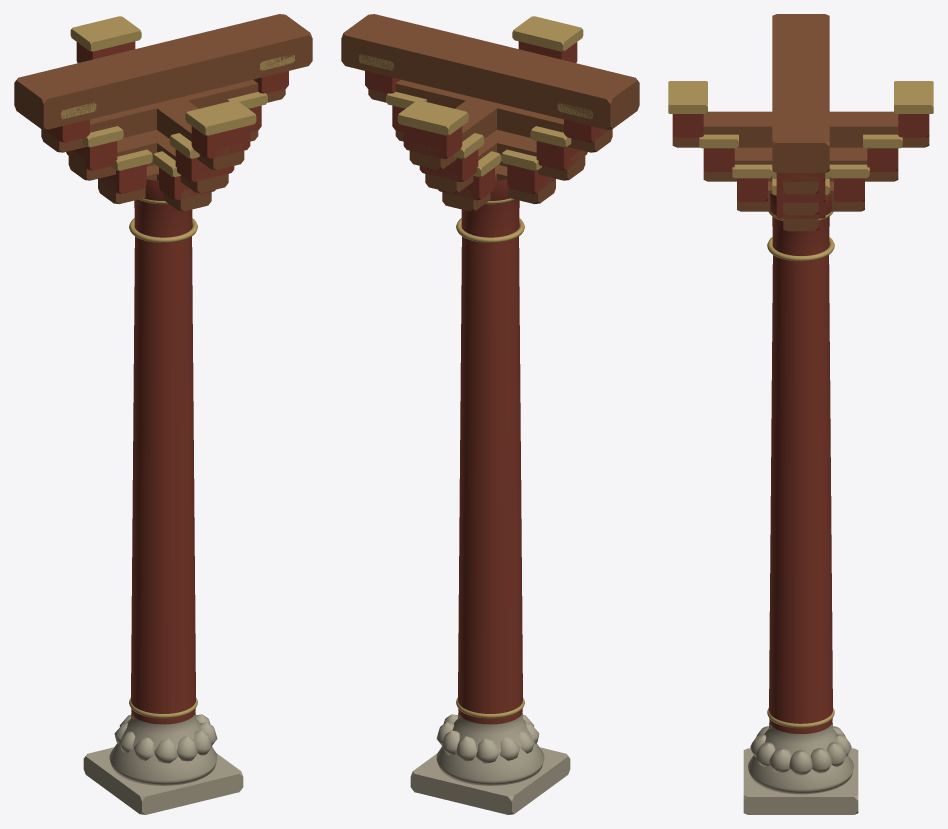
Rendered from column_dougong.glb.
The picture shows the model from 3 angles, left to right: view 1: azimuth 30°, elevation 25°; view 2: azimuth 150°, elevation 25°; view 3: azimuth 270°, elevation 25°; orthographic projection.
Parts seen in each view (by area): view 1: column_dougong; view 2: column_dougong; view 3: column_dougong.
Part boxes in pixels (bbox=[...]): column_dougong: bbox=[14, 14, 312, 814]; column_dougong: bbox=[341, 14, 639, 814]; column_dougong: bbox=[668, 14, 933, 814].
Bounding box in the file's own units: 1.38 × 3.56 × 1.2.
